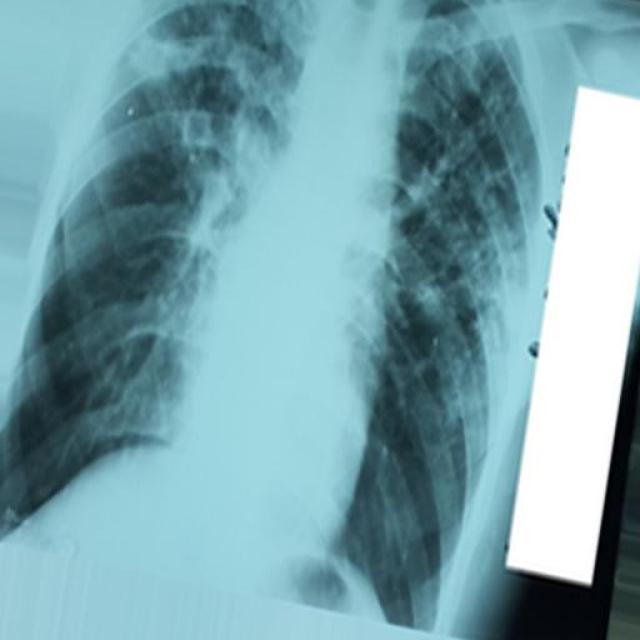tuberculosis: (0, 0, 573, 640)
